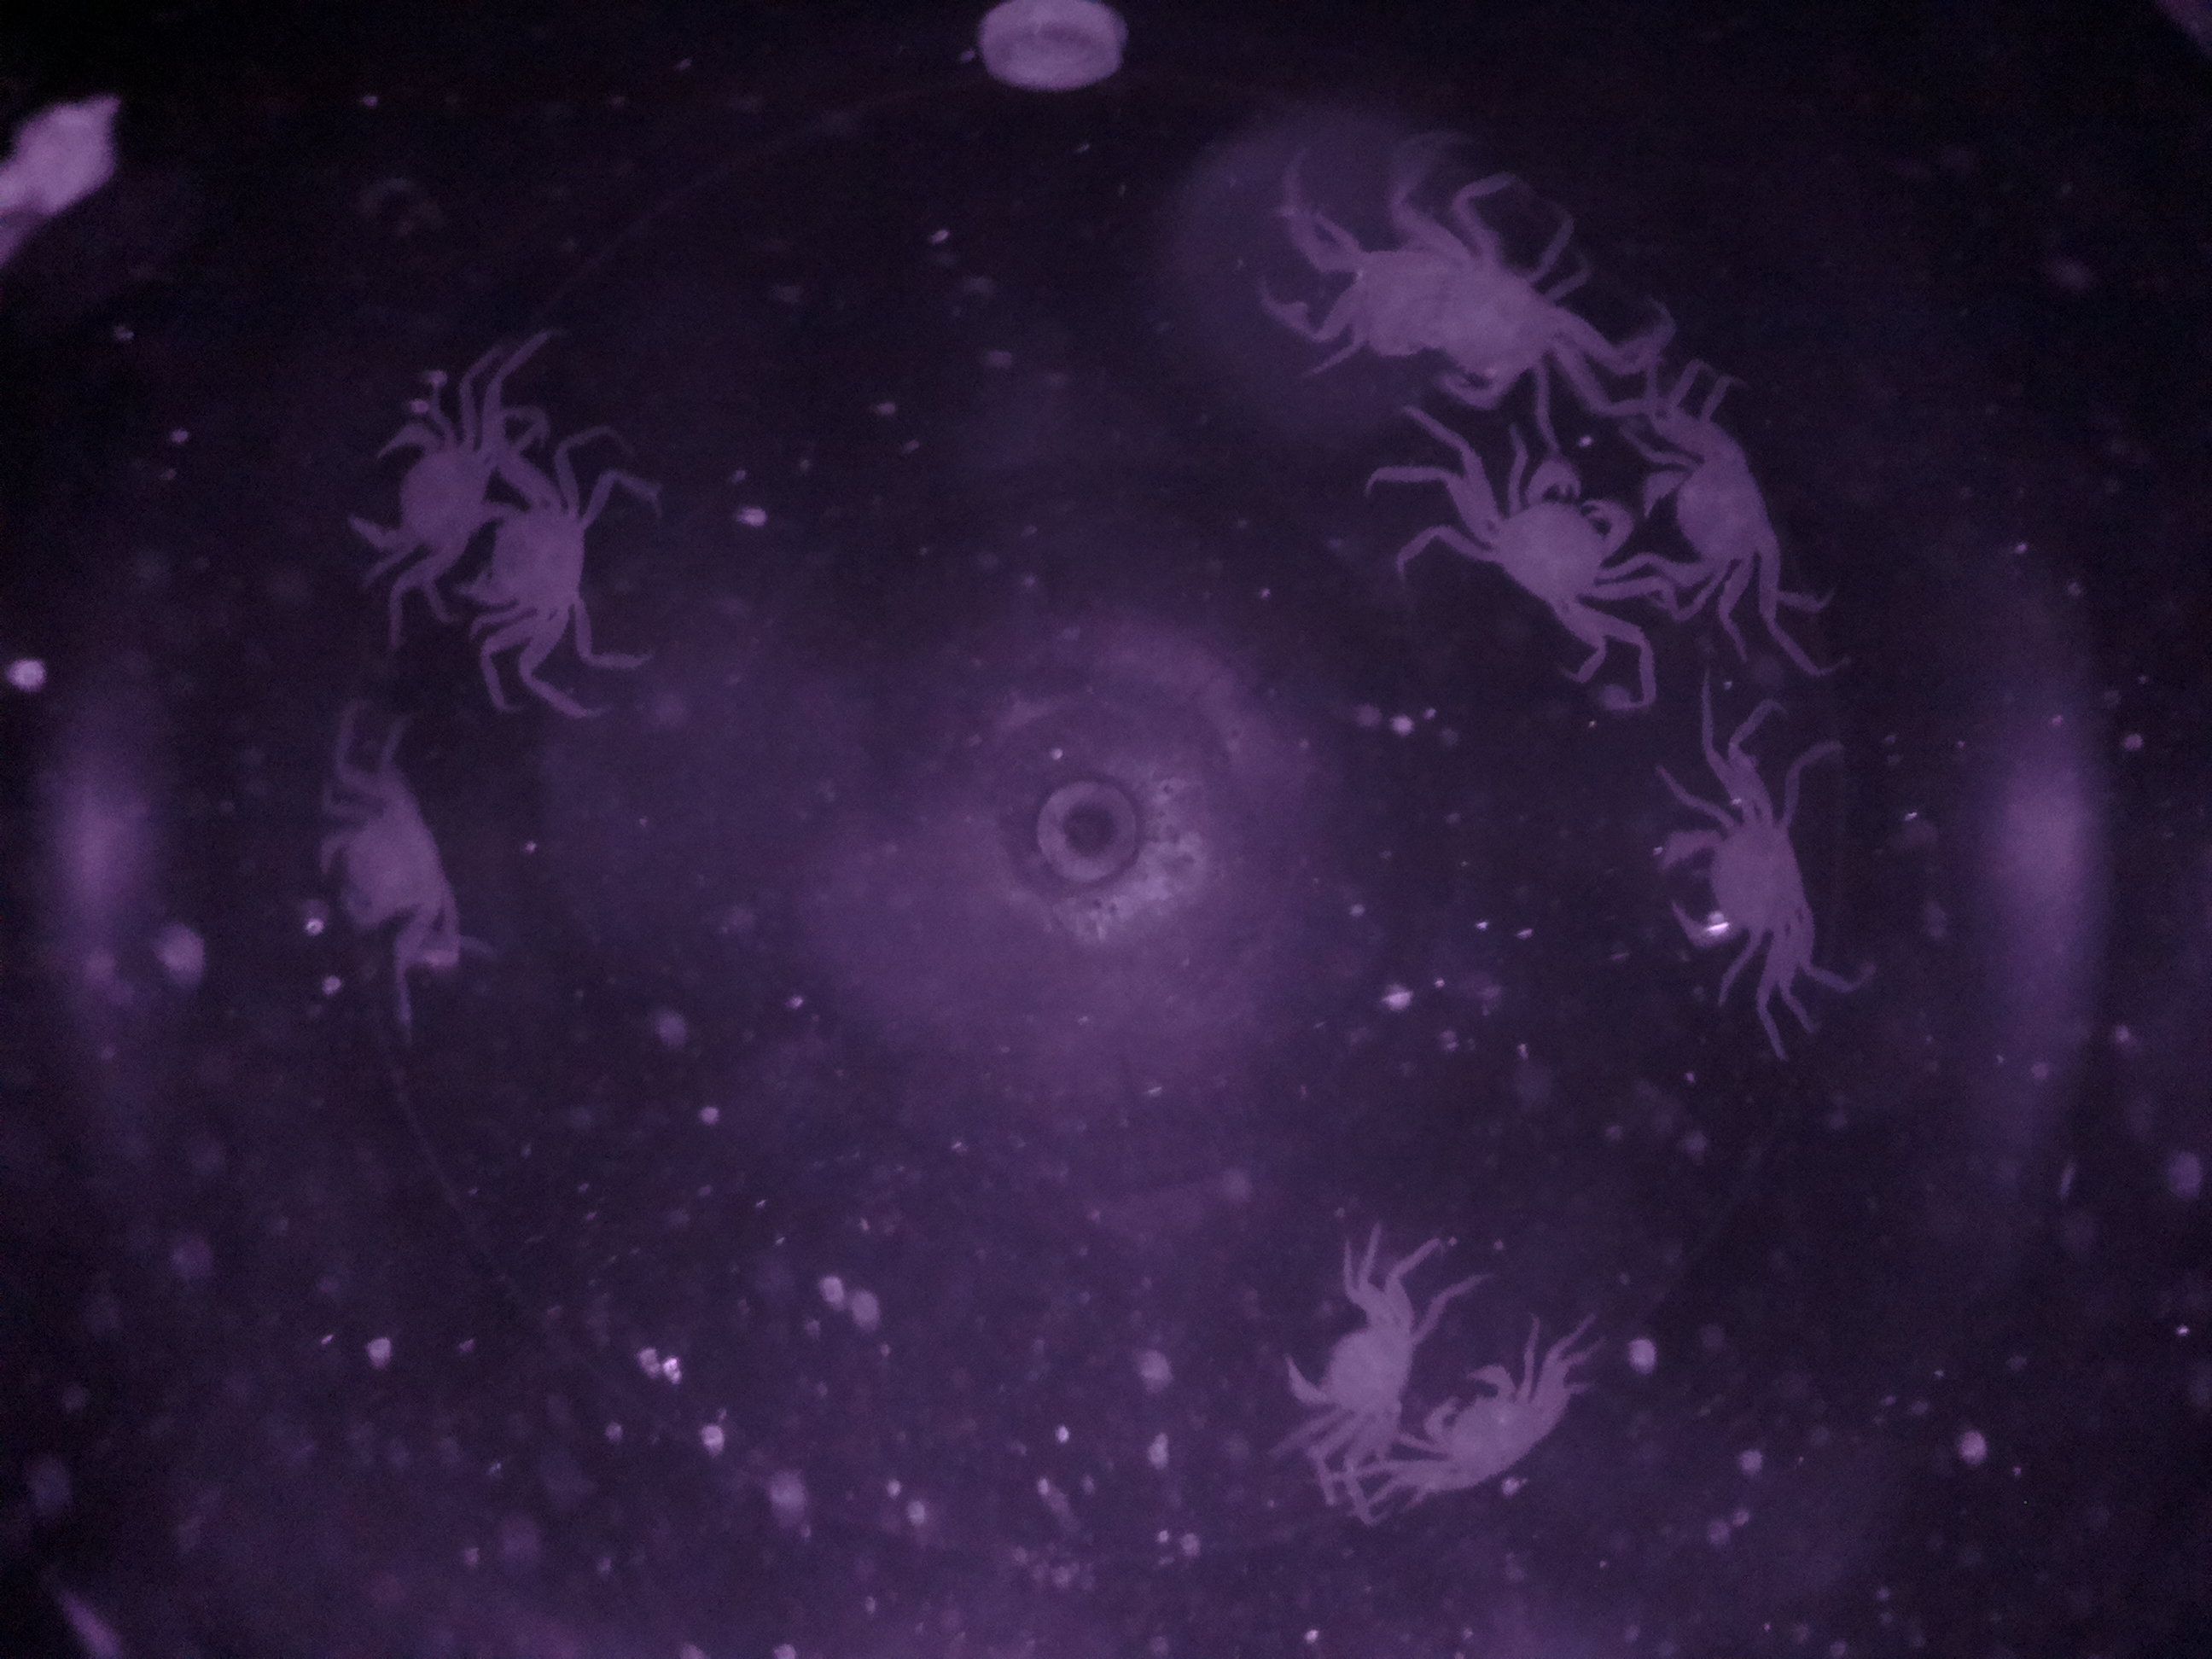Crab: (1646, 793, 1832, 993), (446, 471, 639, 659), (1634, 420, 1818, 608), (1477, 439, 1644, 640), (1264, 1281, 1440, 1464)
